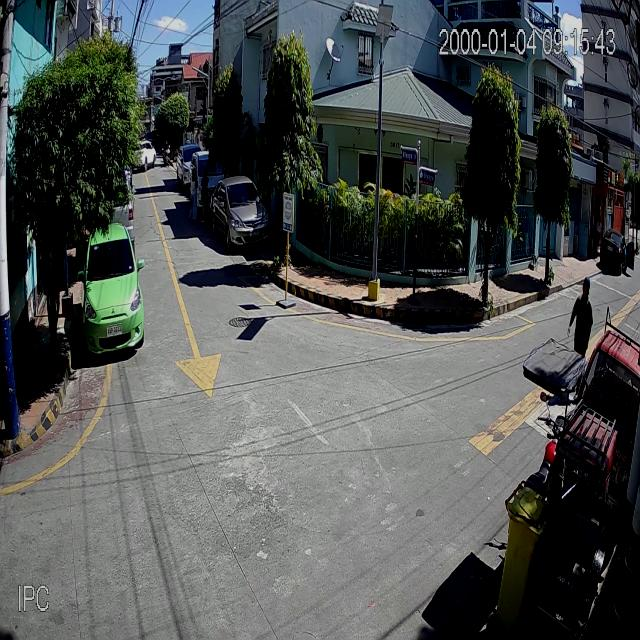walking: (568, 275, 594, 352)
